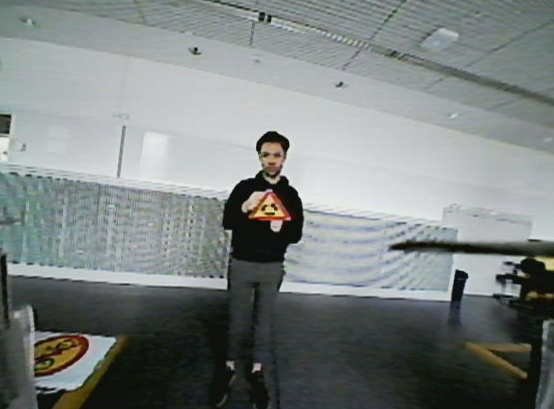roundabout_warning: (247, 188, 291, 221)
